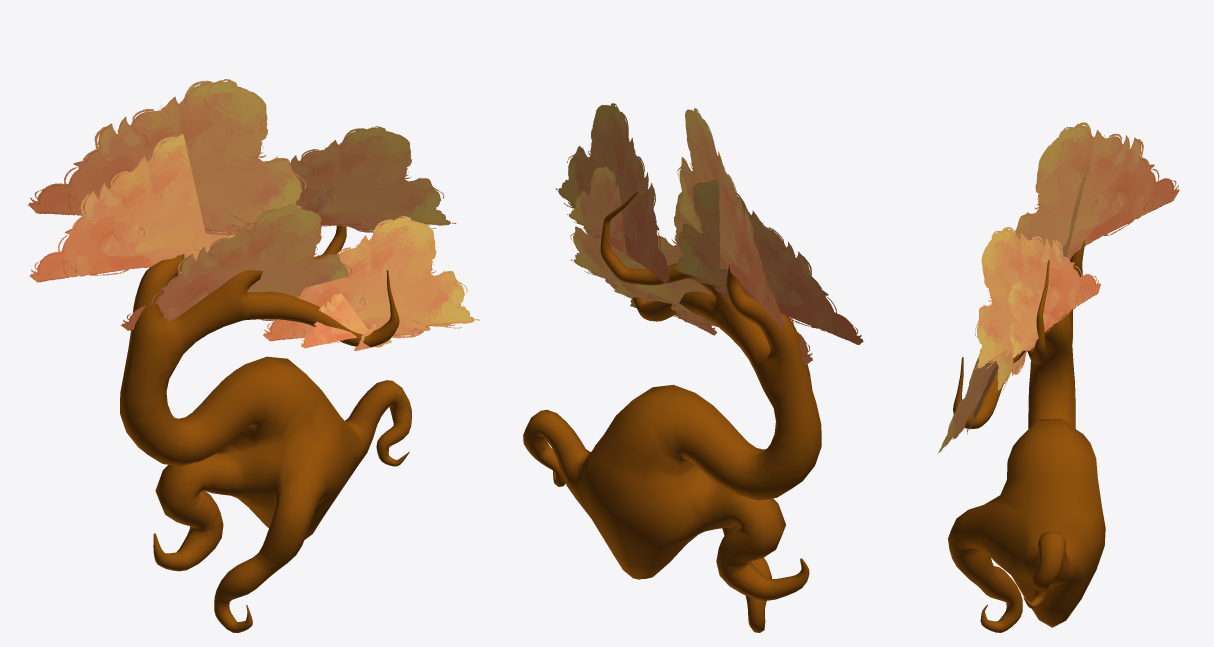
File: N_FireTree.fbx
3 views of the same model, side by side, from view 1: azimuth 30°, elevation 25°; view 2: azimuth 150°, elevation 25°; view 3: azimuth 270°, elevation 25° (orthographic). The views are drawn at different scales.
Parts seen in each view (by area): view 1: Cube; view 2: Cube; view 3: Cube.
Part boxes in pixels (left/top/right/bottom): Cube: left=27, top=79, right=479, bottom=632; Cube: left=523, top=103, right=863, bottom=632; Cube: left=938, top=122, right=1179, bottom=632.
Size of the model in its own units: 266 by 366 by 170.
